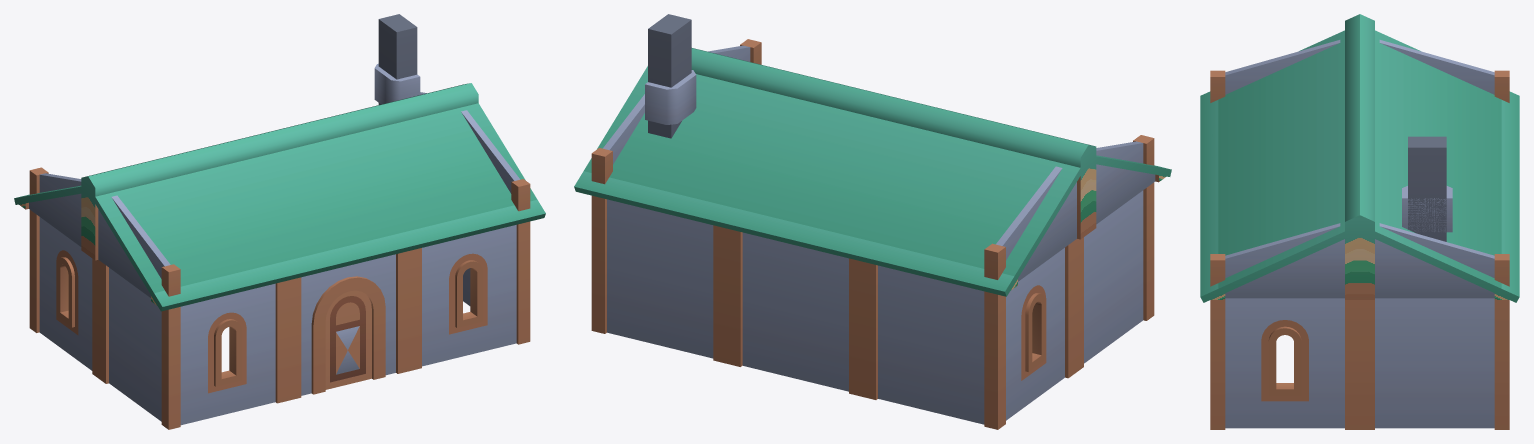
The model's file is maison-atlante-1.glb.
3 views of the same model, side by side, from view 1: azimuth 30°, elevation 25°; view 2: azimuth 150°, elevation 25°; view 3: azimuth 270°, elevation 25° (orthographic). The views are drawn at different scales.
Parts seen in each view (by area): view 1: wall-window-round; view 2: wall-window-round; view 3: wall-window-round.
Boxes of the visible parts, x1,y1,x2,y2 form: wall-window-round: (14,14,545,429); wall-window-round: (574,14,1171,429); wall-window-round: (1200,14,1519,429).
Size of the model in its own units: 9.54 by 6 by 6.4.
Materials: 1 (1 with a texture image).
